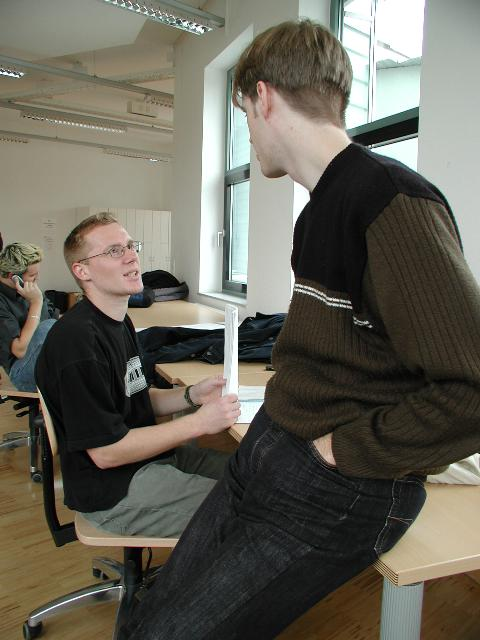Person: (227, 18, 480, 500), (41, 213, 246, 544), (1, 240, 51, 392)
